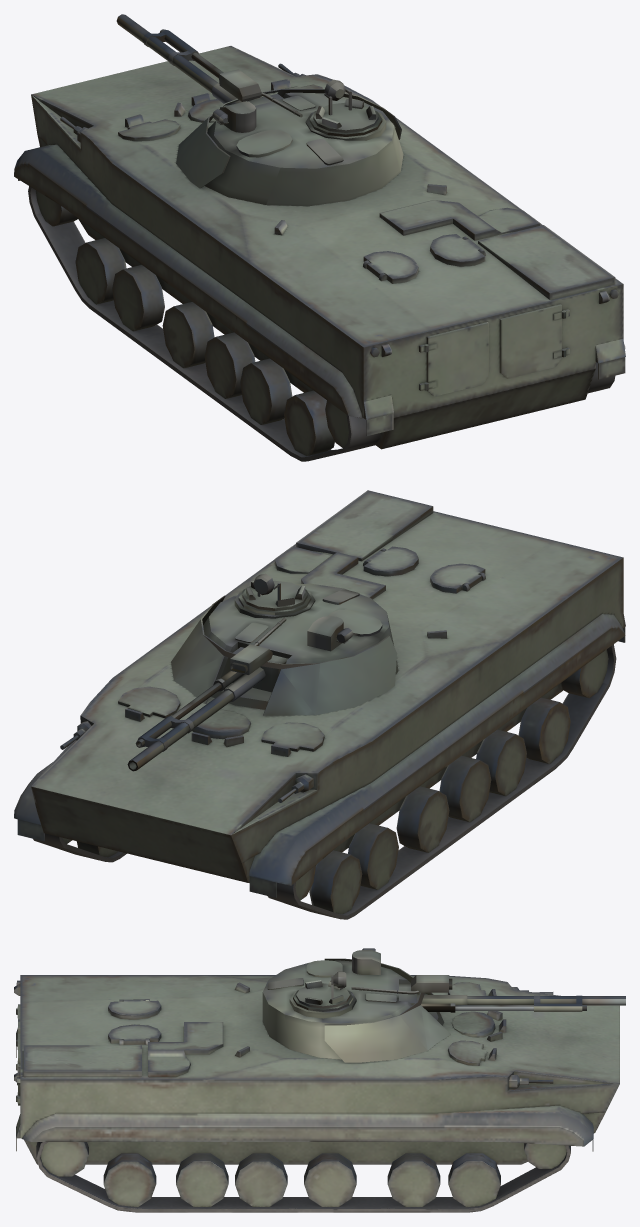
File: BMP-3.fbx
3 renders of one model, top to bottom at view 1: azimuth 30°, elevation 25°; view 2: azimuth 150°, elevation 25°; view 3: azimuth 270°, elevation 25°, orthographic. The views are drawn at different scales.
Parts seen in each view (by area): view 1: BMP-3 Hull, BMP-3 Turret; view 2: BMP-3 Hull, BMP-3 Turret; view 3: BMP-3 Hull, BMP-3 Turret.
Part boxes in pixels (<box>): BMP-3 Hull: <box>14,46,625,461</box>; BMP-3 Turret: <box>116,14,403,206</box>; BMP-3 Hull: <box>14,490,625,919</box>; BMP-3 Turret: <box>127,573,398,771</box>; BMP-3 Hull: <box>14,975,619,1212</box>; BMP-3 Turret: <box>262,948,625,1062</box>.
Bounding box in the file's own units: 3.12 × 2.62 × 7.21.
